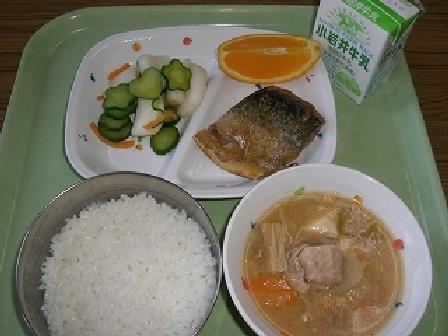Citrus: (210, 18, 320, 86)
Fish: (204, 84, 321, 175)
Milk: (311, 0, 423, 85)
Rice: (17, 176, 219, 334)
Soups: (225, 178, 423, 335)
salad fresh: (87, 49, 202, 154)
